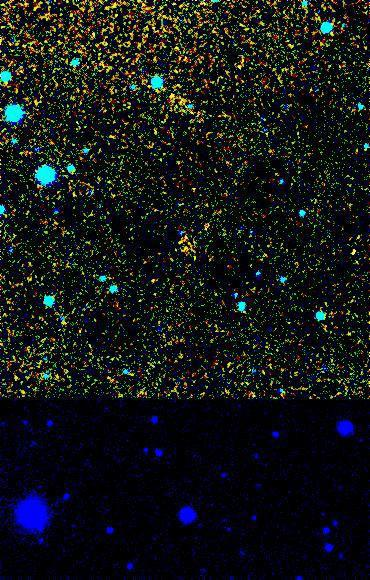star: (157, 79, 187, 109)
